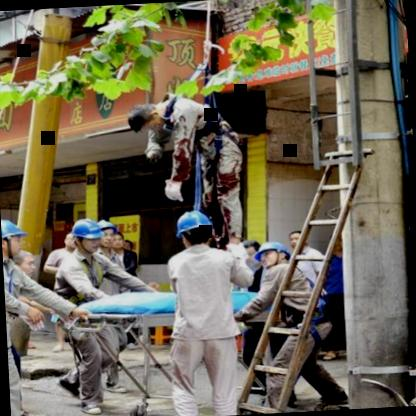head: (122, 101, 166, 136), (13, 247, 42, 278), (239, 236, 261, 267), (284, 228, 310, 250)
helmet: (170, 207, 216, 251), (66, 218, 110, 254), (252, 235, 292, 274), (0, 218, 26, 262), (96, 214, 118, 252)
